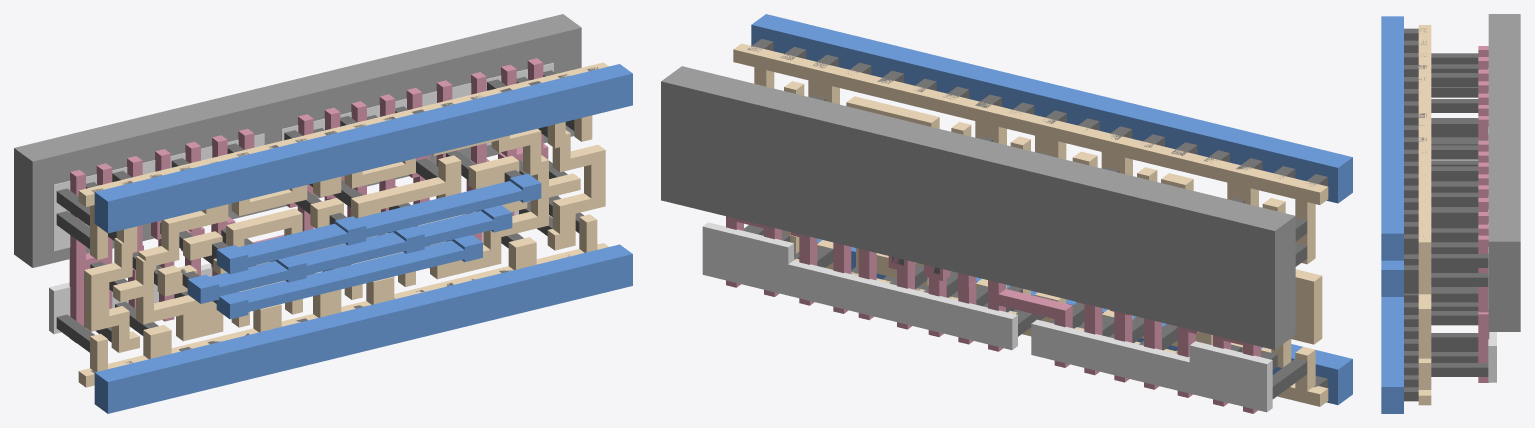
The model's file is sky130_fd_sc_hd__fa_2.gds.gltf.
3 renders of one model, left to right at view 1: azimuth 30°, elevation 25°; view 2: azimuth 150°, elevation 25°; view 3: azimuth 270°, elevation 25°, orthographic. The views are drawn at different scales.
Visible parts, largest first — view 1: sky130_fd_sc_hd__fa_2_met1, sky130_fd_sc_hd__fa_2_li1, sky130_fd_sc_hd__fa_2_nwell, sky130_fd_sc_hd__fa_2_poly, sky130_fd_sc_hd__fa_2_licon, sky130_fd_sc_hd__fa_2_diff, sky130_fd_sc_hd__fa_2_mcon; view 2: sky130_fd_sc_hd__fa_2_nwell, sky130_fd_sc_hd__fa_2_li1, sky130_fd_sc_hd__fa_2_diff, sky130_fd_sc_hd__fa_2_met1, sky130_fd_sc_hd__fa_2_poly, sky130_fd_sc_hd__fa_2_licon, sky130_fd_sc_hd__fa_2_mcon; view 3: sky130_fd_sc_hd__fa_2_licon, sky130_fd_sc_hd__fa_2_nwell, sky130_fd_sc_hd__fa_2_met1, sky130_fd_sc_hd__fa_2_mcon, sky130_fd_sc_hd__fa_2_li1, sky130_fd_sc_hd__fa_2_poly, sky130_fd_sc_hd__fa_2_diff.
Part boxes in pixels (box(x1,y1,x2,y2)): sky130_fd_sc_hd__fa_2_met1: box(94, 64, 632, 413); sky130_fd_sc_hd__fa_2_li1: box(78, 62, 608, 387); sky130_fd_sc_hd__fa_2_nwell: box(14, 14, 581, 267); sky130_fd_sc_hd__fa_2_poly: box(69, 58, 548, 342); sky130_fd_sc_hd__fa_2_licon: box(56, 70, 583, 352); sky130_fd_sc_hd__fa_2_diff: box(49, 63, 558, 334); sky130_fd_sc_hd__fa_2_mcon: box(91, 67, 598, 373); sky130_fd_sc_hd__fa_2_nwell: box(661, 66, 1295, 349); sky130_fd_sc_hd__fa_2_li1: box(733, 43, 1328, 406); sky130_fd_sc_hd__fa_2_diff: box(702, 222, 1272, 412); sky130_fd_sc_hd__fa_2_met1: box(751, 14, 1352, 404); sky130_fd_sc_hd__fa_2_poly: box(726, 216, 1260, 413); sky130_fd_sc_hd__fa_2_licon: box(744, 96, 1307, 398); sky130_fd_sc_hd__fa_2_mcon: box(747, 39, 1327, 388); sky130_fd_sc_hd__fa_2_licon: box(1431, 53, 1488, 376); sky130_fd_sc_hd__fa_2_nwell: box(1488, 14, 1520, 331); sky130_fd_sc_hd__fa_2_met1: box(1381, 16, 1403, 413); sky130_fd_sc_hd__fa_2_mcon: box(1404, 28, 1426, 401); sky130_fd_sc_hd__fa_2_li1: box(1418, 25, 1431, 405); sky130_fd_sc_hd__fa_2_poly: box(1478, 46, 1489, 382); sky130_fd_sc_hd__fa_2_diff: box(1488, 68, 1496, 382).
Size of the model in its own units: 8.66 by 3.2 by 2.24.
